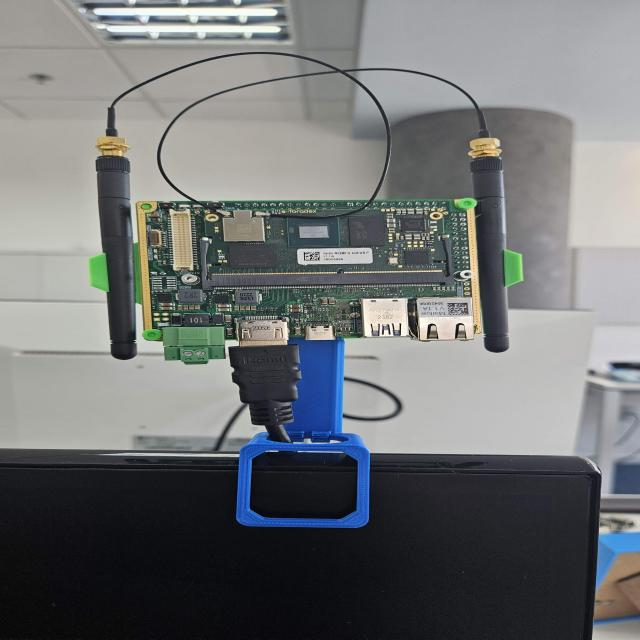som: (190, 212, 454, 281)
